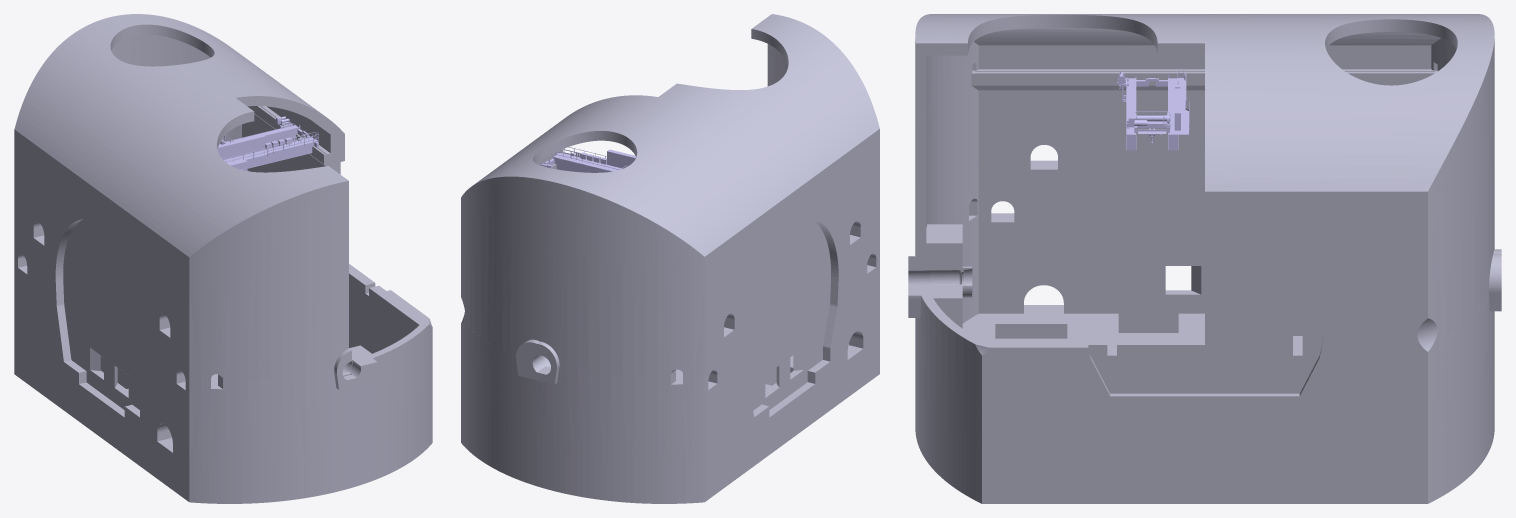
File: UX15-cut4.glb
The picture shows the model from 3 angles, left to right: view 1: azimuth 30°, elevation 25°; view 2: azimuth 150°, elevation 25°; view 3: azimuth 270°, elevation 25°; orthographic projection. The views are drawn at different scales.
Visible parts, largest first — view 1: S_Mesh_0-152, S_Mesh_2-053; view 2: S_Mesh_0-152, S_Mesh_2-053; view 3: S_Mesh_0-152, S_Mesh_2-053.
Boxes of the visible parts, x1=… form: S_Mesh_0-152: x1=14, y1=14, x2=432, y2=503; S_Mesh_2-053: x1=217, y1=116, x2=318, y2=171; S_Mesh_0-152: x1=461, y1=14, x2=879, y2=503; S_Mesh_2-053: x1=539, y1=147, x2=636, y2=172; S_Mesh_0-152: x1=908, y1=14, x2=1501, y2=503; S_Mesh_2-053: x1=1117, y1=68, x2=1189, y2=150.
Size of the model in its own units: 34 by 41.2 by 56.3.
